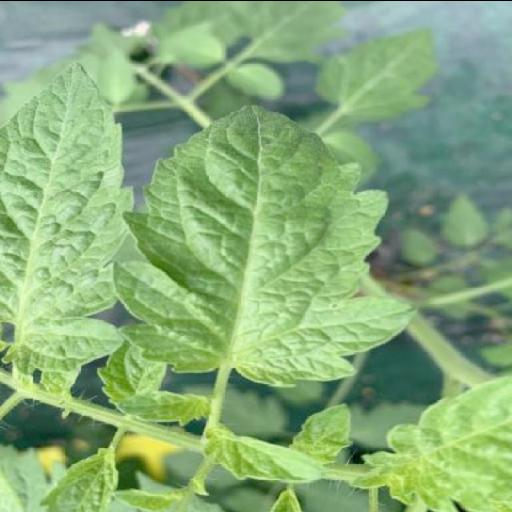Healthy: (113, 104, 419, 386)
